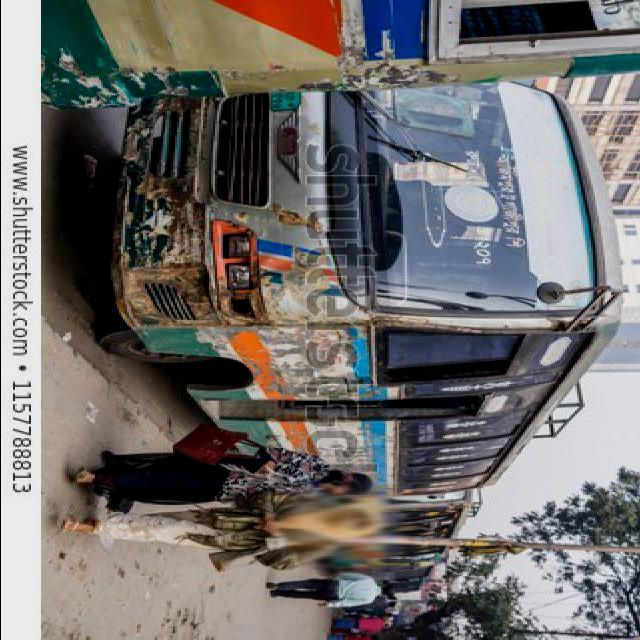bus: (93, 83, 626, 501)
